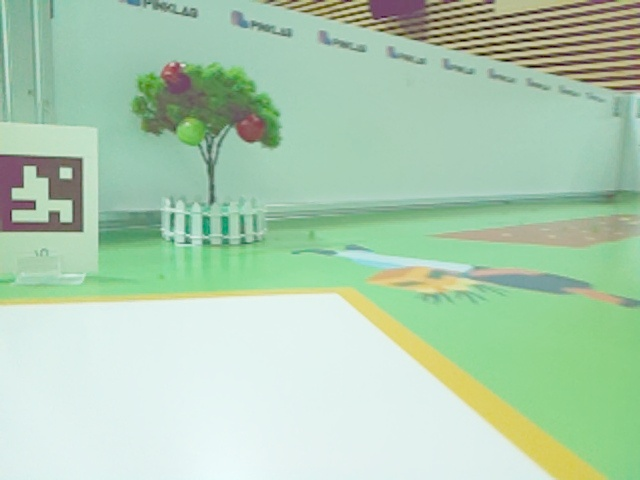apple: (237, 116, 263, 141), (163, 64, 179, 83)
